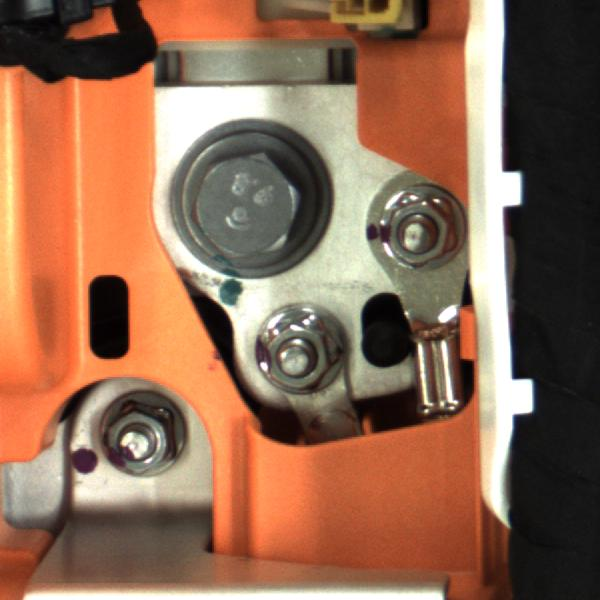nut_b: (170, 122, 340, 277)
screw_s: (254, 298, 355, 391), (100, 385, 190, 484), (372, 182, 468, 272)
